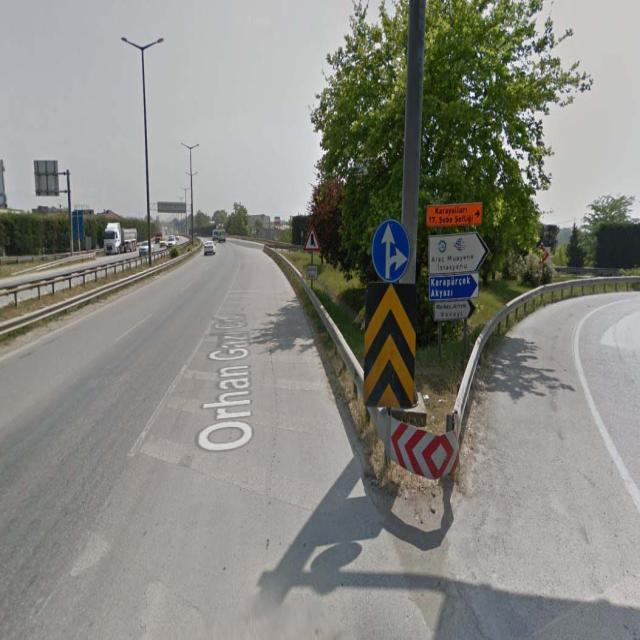ilerisag: (373, 221, 409, 282)
